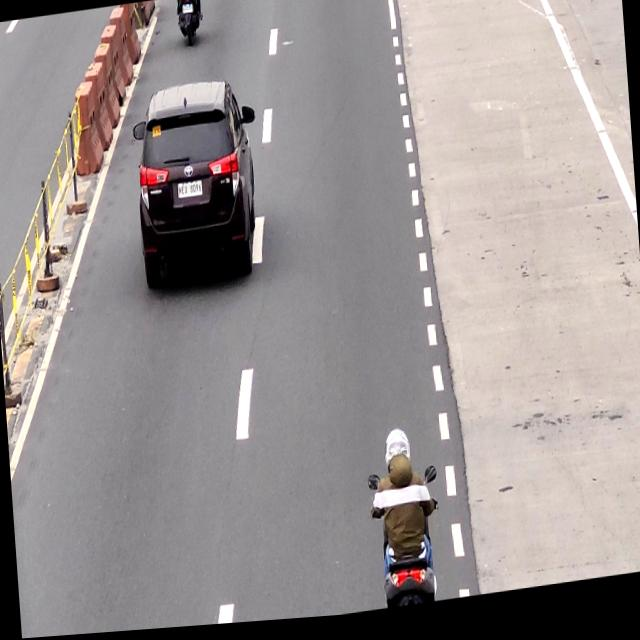Car: (130, 76, 260, 292)
License-Plate: (174, 182, 203, 204), (180, 4, 194, 17)
Motorcycle: (367, 428, 448, 615), (176, 0, 205, 50)
